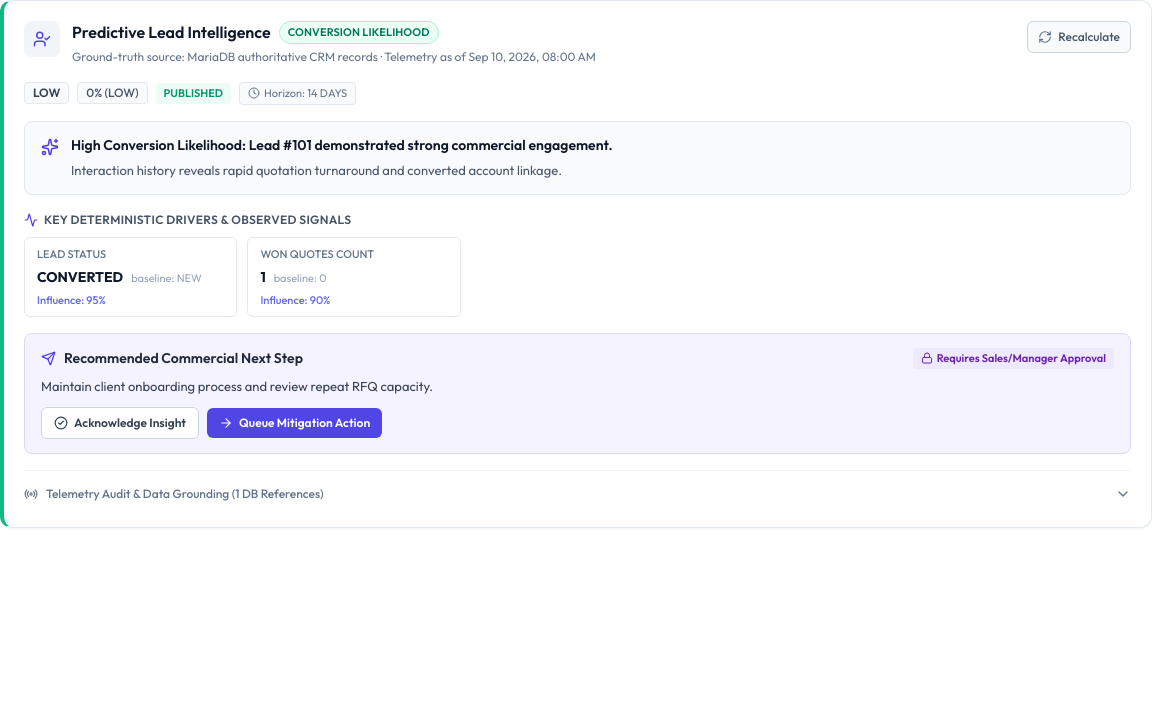
Test: CustomerLeadPredictiveIntelligenceCard › handles acknowledge button click
The image size is (1152, 720).
What coordinates should you click on to do the following:
click the button "Acknowledge Insight"
I would click on:
 (120, 423)
Its box is [41, 407, 199, 439].
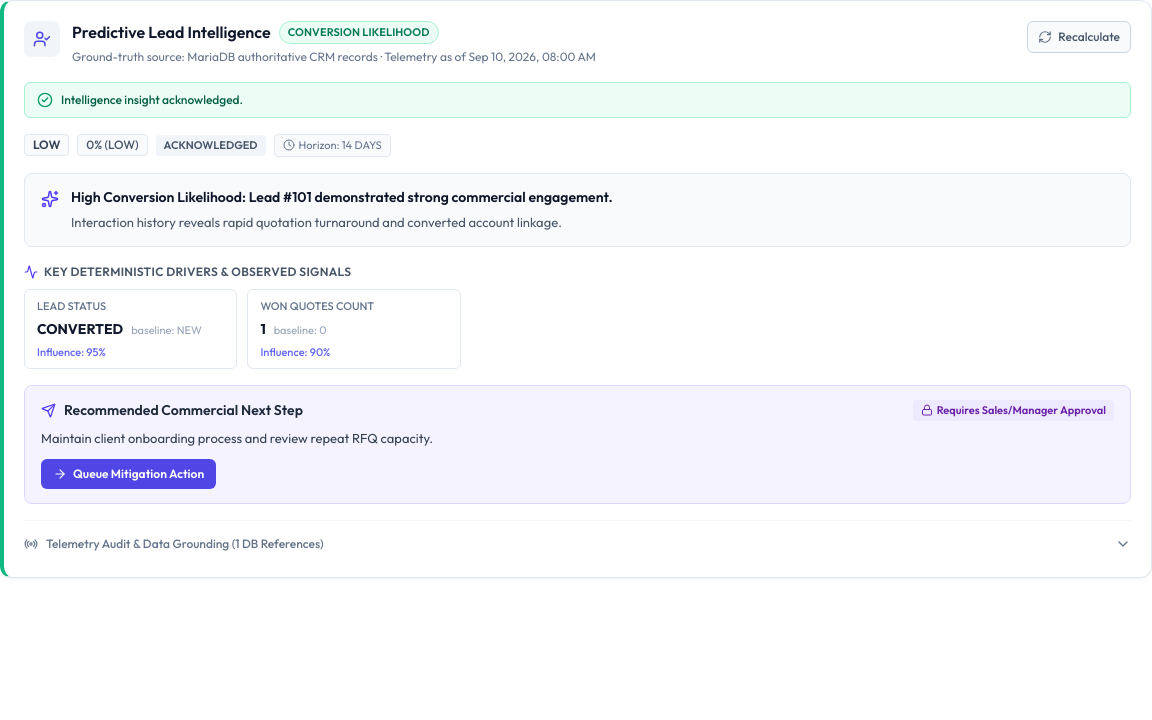
Expected: the text "Intelligence insight acknowledged." is shown, [61, 90, 243, 108]
